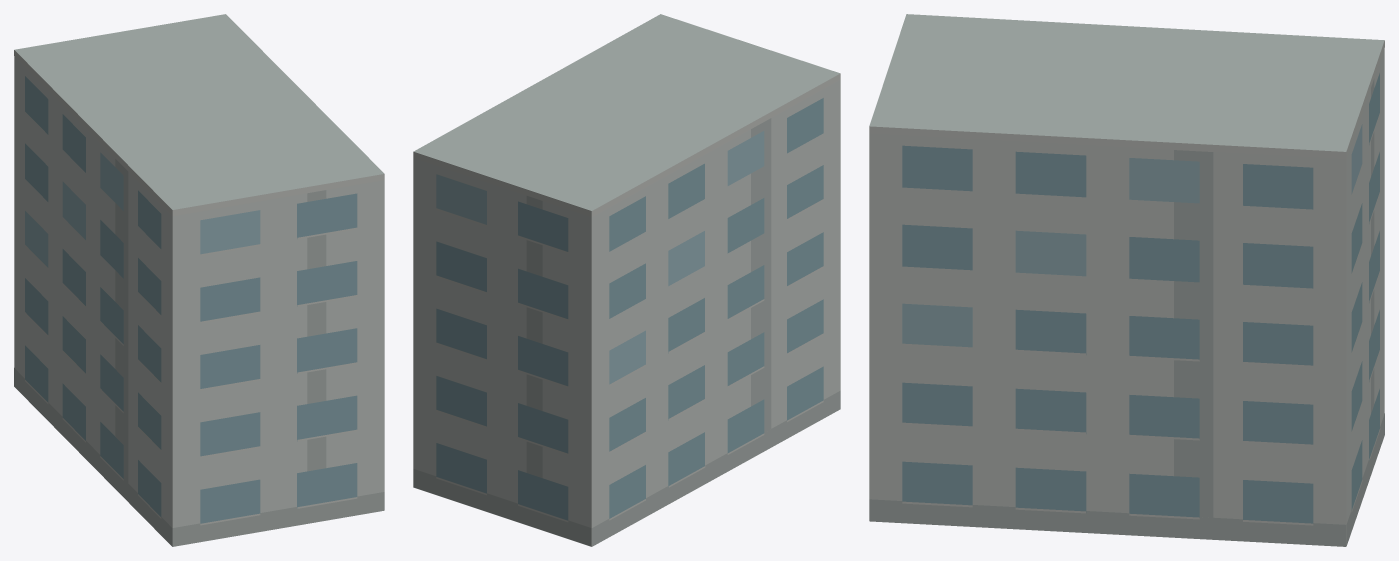
Rendered from survey-upis-32952547.glb.
3 renders of one model, left to right at view 1: azimuth 30°, elevation 25°; view 2: azimuth 150°, elevation 25°; view 3: azimuth 270°, elevation 25°, orthographic. The views are drawn at different scales.
Visible parts, largest first — view 1: survey-upis-32952547.tmp; view 2: survey-upis-32952547.tmp; view 3: survey-upis-32952547.tmp.
Part boxes in pixels (left/top/right/bottom): survey-upis-32952547.tmp: left=14, top=14, right=384, bottom=546; survey-upis-32952547.tmp: left=413, top=14, right=840, bottom=546; survey-upis-32952547.tmp: left=869, top=14, right=1384, bottom=546.
Size of the model in its own units: 9.89 by 13.2 by 15.63.
